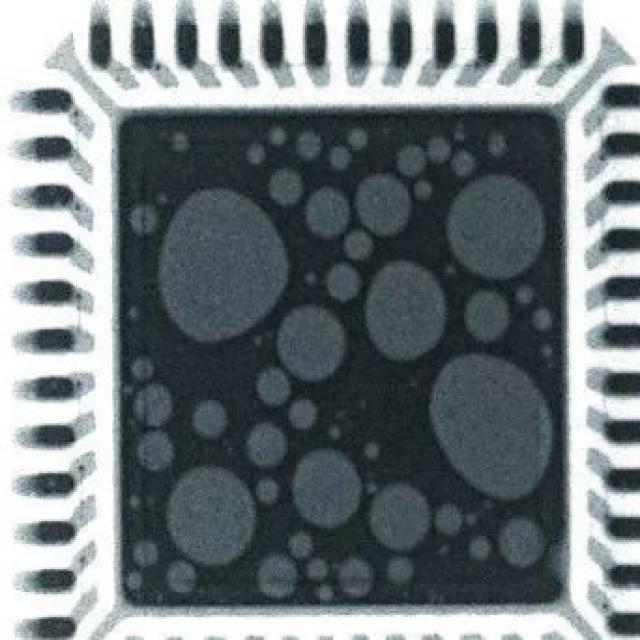component: (117, 109, 568, 608)
void: (159, 190, 290, 342), (432, 354, 554, 501), (449, 175, 546, 280), (168, 469, 255, 566), (367, 261, 447, 362), (294, 450, 363, 531), (279, 309, 346, 383), (372, 486, 432, 552), (356, 173, 410, 237), (305, 186, 352, 239), (305, 186, 352, 239), (466, 290, 511, 343), (500, 519, 546, 570), (247, 423, 288, 469), (258, 555, 298, 599), (135, 384, 172, 428), (138, 432, 174, 473), (339, 559, 374, 599), (258, 369, 292, 408), (327, 265, 363, 301), (194, 400, 229, 437), (269, 169, 303, 206), (129, 204, 159, 237), (548, 542, 571, 585), (436, 504, 464, 537), (168, 563, 196, 595), (346, 229, 374, 260), (290, 400, 318, 430), (387, 557, 415, 587), (290, 400, 318, 430), (399, 148, 427, 176), (288, 532, 314, 561), (133, 542, 159, 568), (429, 136, 453, 164), (298, 131, 322, 159), (131, 356, 155, 384), (470, 536, 494, 564), (453, 150, 477, 177), (258, 479, 281, 506), (329, 146, 352, 170), (488, 131, 509, 157), (307, 559, 329, 583), (247, 142, 266, 164), (350, 127, 369, 149), (415, 179, 434, 201), (269, 125, 286, 147), (535, 309, 552, 330), (172, 131, 189, 151), (316, 586, 333, 605), (127, 573, 142, 593), (518, 286, 535, 303), (365, 444, 380, 462), (305, 271, 318, 287), (329, 425, 342, 441), (127, 306, 140, 320), (129, 496, 142, 510), (438, 546, 453, 558), (155, 192, 168, 205), (445, 265, 458, 276), (367, 484, 380, 495), (543, 346, 554, 359), (466, 515, 478, 526), (124, 386, 135, 397), (337, 411, 347, 421), (255, 336, 264, 347), (485, 502, 494, 510), (361, 400, 367, 410)
